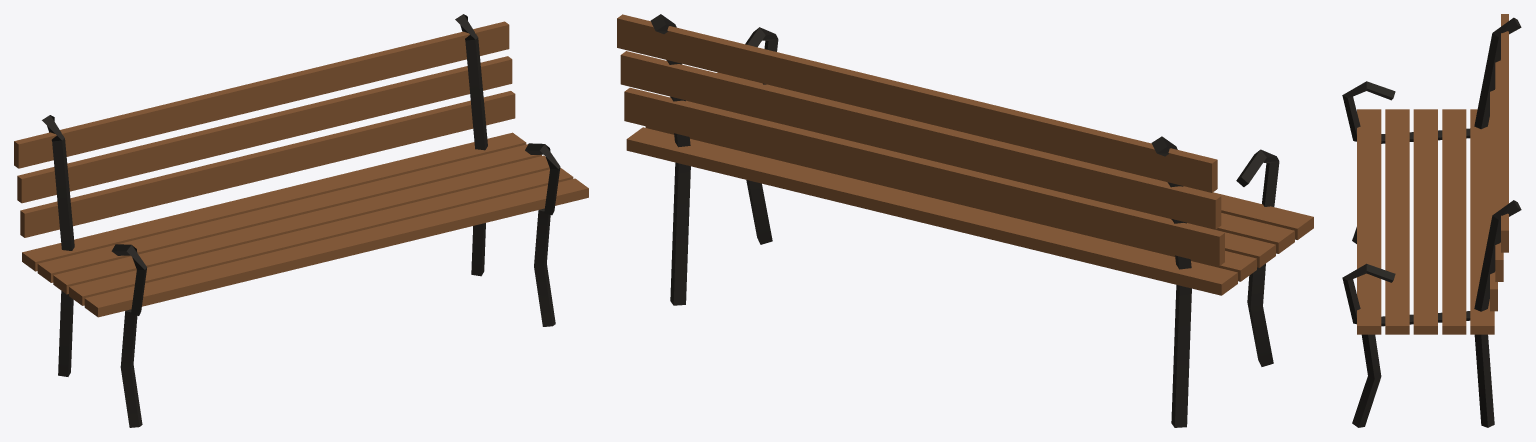
The picture shows the model from 3 angles, left to right: view 1: azimuth 30°, elevation 25°; view 2: azimuth 150°, elevation 25°; view 3: azimuth 270°, elevation 25°; orthographic projection. The views are drawn at different scales.
Parts seen in each view (by area): view 1: bench.lod1; view 2: bench.lod1; view 3: bench.lod1.
Boxes of the visible parts, x1,y1,x2,y2 form: bench.lod1: (14, 14, 588, 427); bench.lod1: (617, 14, 1313, 427); bench.lod1: (1342, 14, 1521, 427).
Size of the model in its own units: 1.9 by 0.9276 by 0.6643.
